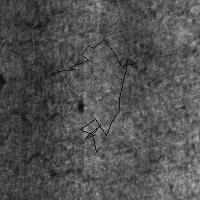crazing: (57, 39, 135, 152), (7, 132, 165, 184)
